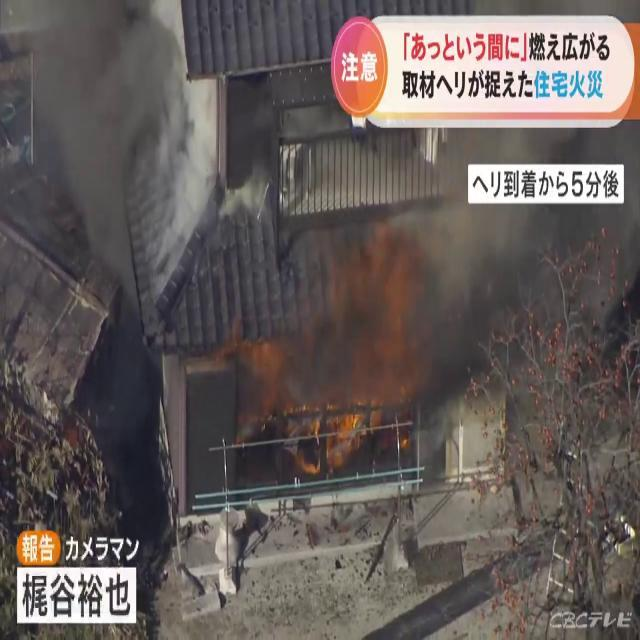Smoke: (230, 176, 640, 474), (5, 0, 210, 255)
